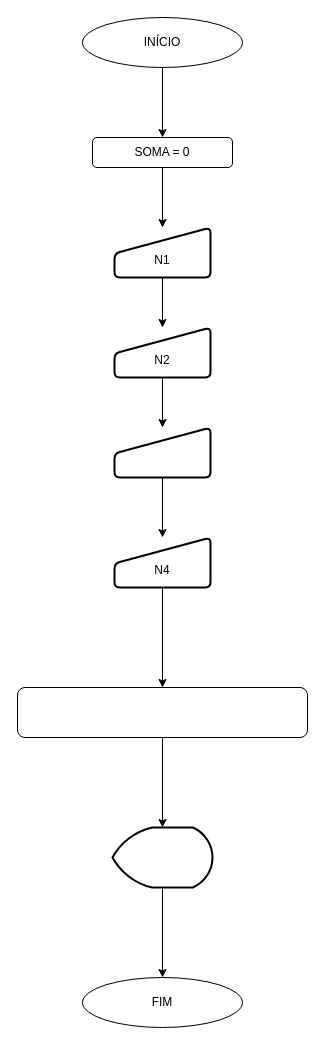
Image size: 325x1045. Some labels were removed from this diagram. Here are the shapes that lost their labels. From the top down, the centre of each, then its label:
At point 162,452: "N3".
At point 162,712: "soma = (n1*n1)+(n2*n2)+(n3*n3)+(n4*n4)".
At point 162,857: "soma".
